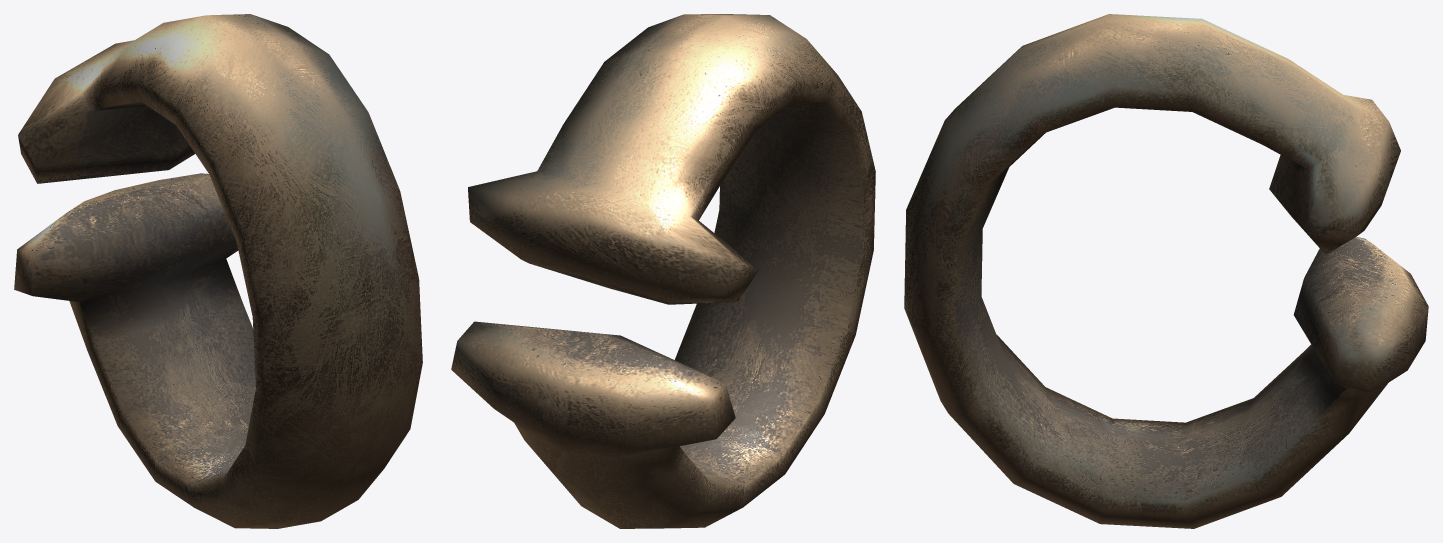
File: sm_yun_accessories_05.gltf
3 views of the same model, side by side, from view 1: azimuth 30°, elevation 25°; view 2: azimuth 150°, elevation 25°; view 3: azimuth 270°, elevation 25° (orthographic).
Visible parts, largest first — view 1: sm_yun_accessories_05; view 2: sm_yun_accessories_05; view 3: sm_yun_accessories_05.
Boxes of the visible parts, <box> form: sm_yun_accessories_05: <box>14,14,422,528</box>; sm_yun_accessories_05: <box>451,14,875,528</box>; sm_yun_accessories_05: <box>904,14,1428,528</box>.
Bounding box in the file's own units: 2.94 × 5.03 × 4.87.
Materials: 1 (1 with a texture image).
